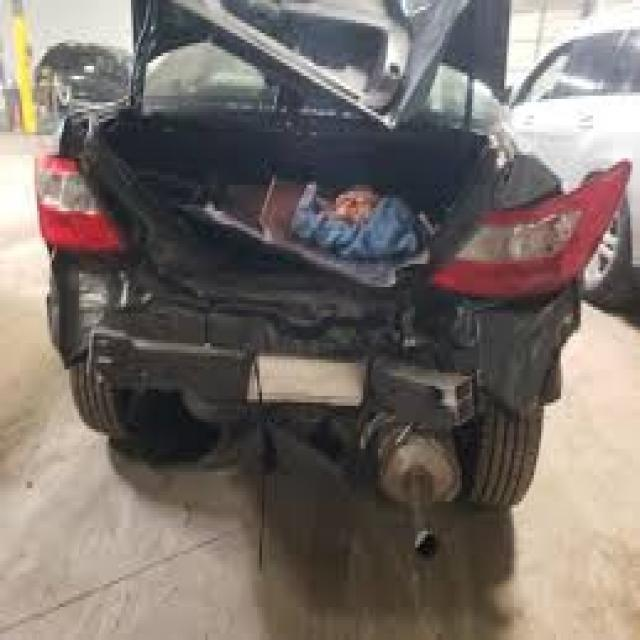damaged-trunk: (96, 89, 484, 294)
